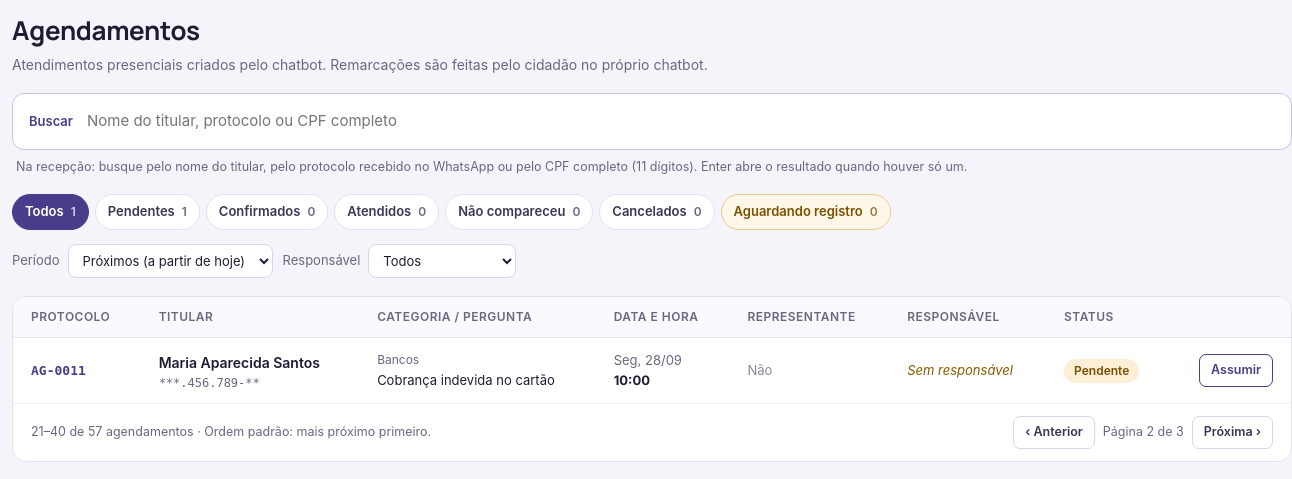
it: Appointments.page: volta à página 1 com várias páginas › o chip escolhido na página 2 volta à página 1
The image size is (1292, 479).
Expected: the text "Página 2 de 3" is shown, [1103,423,1184,442]
Click the button "Pendentes 1".
click(147, 212)  # box [95,194,200,230]
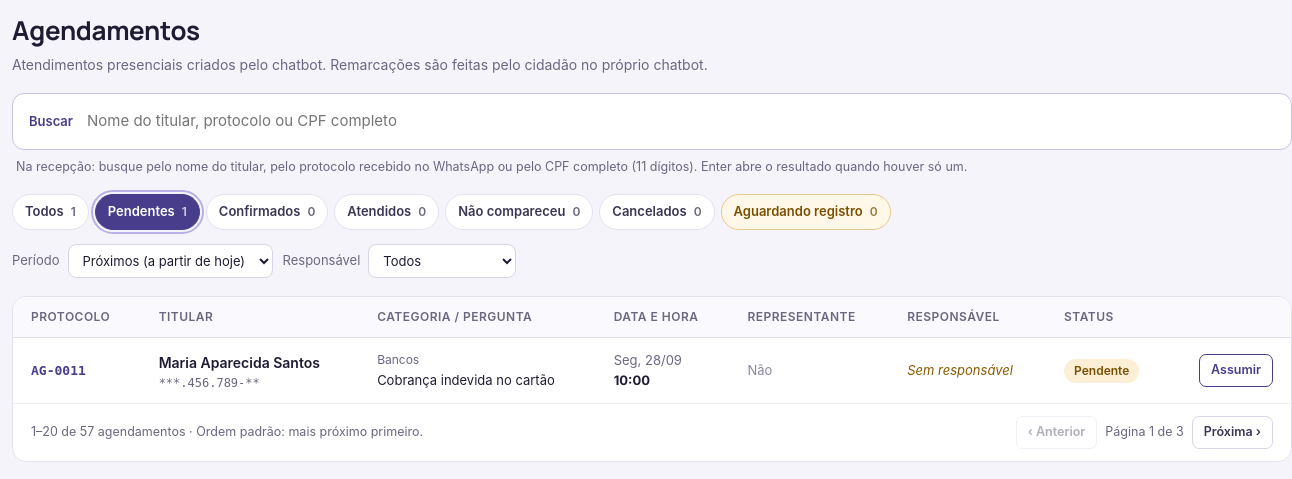
Expected: the text "Página 1 de 3" is shown, [1105,423,1184,442]
